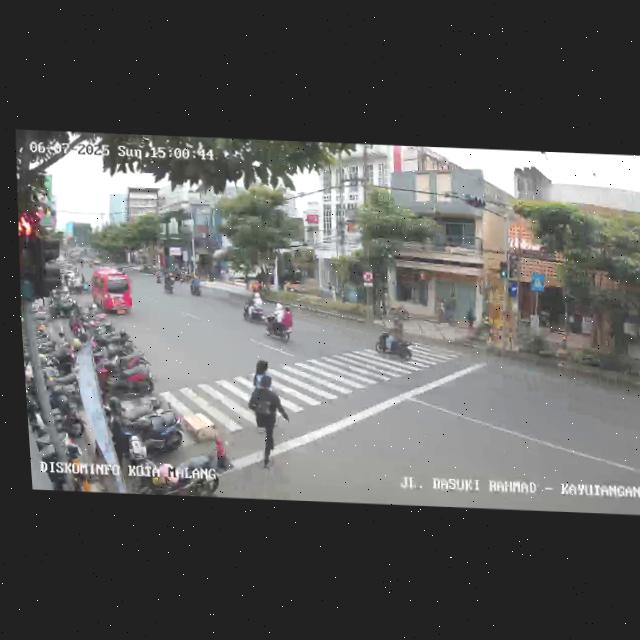car: (87, 269, 136, 317)
motorcycle: (374, 321, 415, 365), (267, 304, 296, 344), (240, 289, 266, 324), (161, 273, 177, 294), (189, 276, 203, 297)
person: (246, 374, 287, 472), (250, 357, 274, 434)
